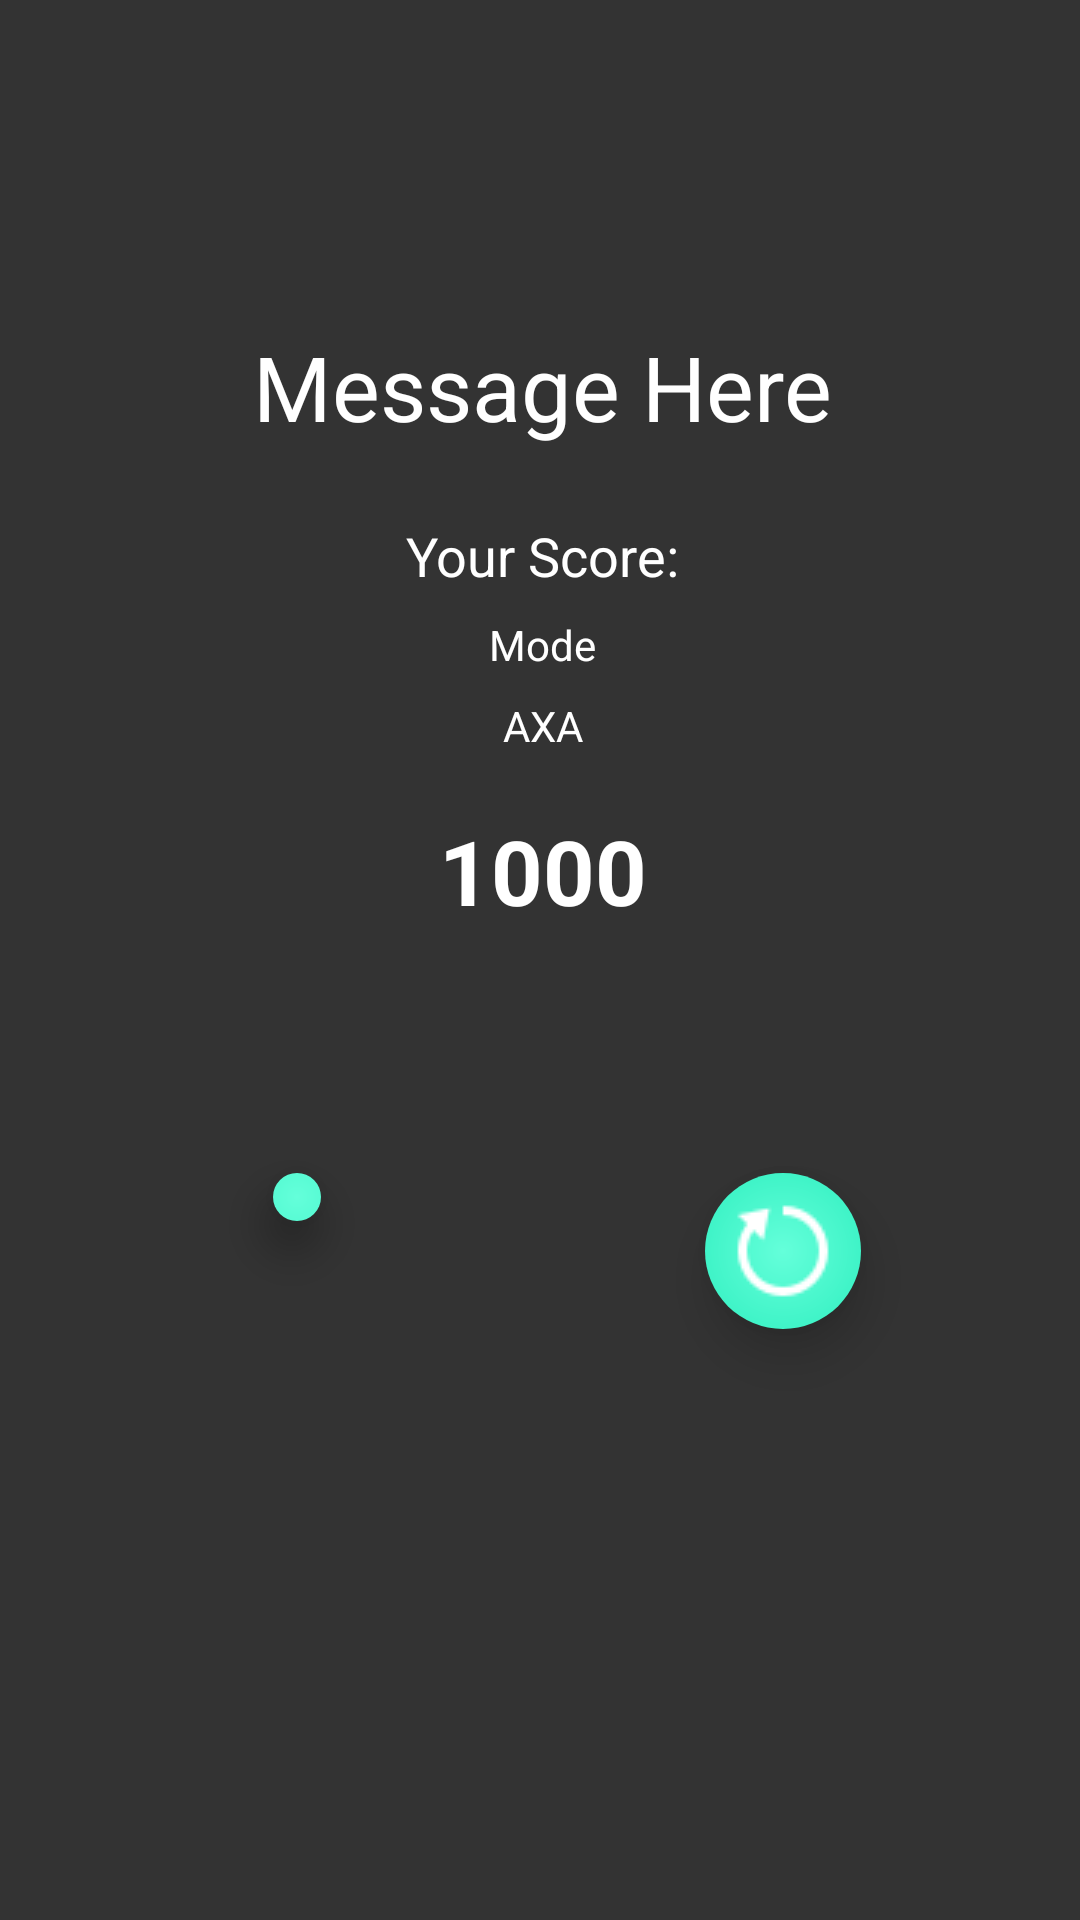

Screen size 1080px×1920px. Icon name, then its center in pixels as (x,y):
restart: (783,1251)
